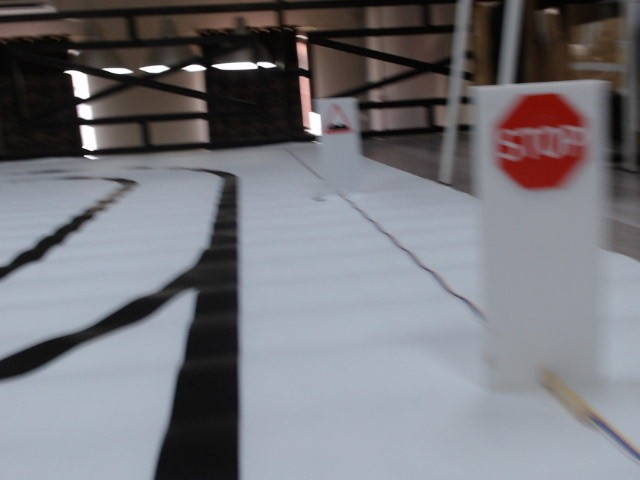Nerov: (322, 104, 354, 135)
Stop: (491, 93, 591, 198)
